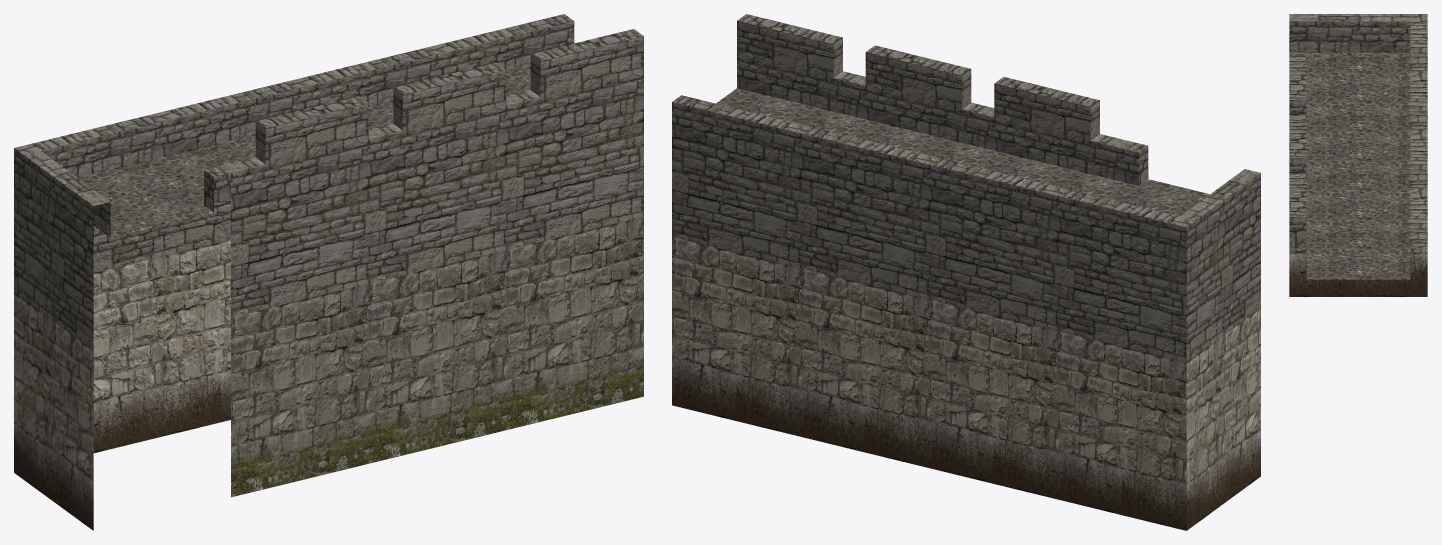
The model's file is poorlords_wall_corner.FBX.
3 views of the same model, side by side, from view 1: azimuth 30°, elevation 25°; view 2: azimuth 150°, elevation 25°; view 3: azimuth 270°, elevation 25° (orthographic). The views are drawn at different scales.
Visible parts, largest first — view 1: Poorlords_wall_corner_; view 2: Poorlords_wall_corner_; view 3: Poorlords_wall_corner_.
Part boxes in pixels (left/top/right/bottom): Poorlords_wall_corner_: left=14, top=14, right=643, bottom=530; Poorlords_wall_corner_: left=672, top=14, right=1260, bottom=530; Poorlords_wall_corner_: left=1289, top=14, right=1427, bottom=296.
Bounding box in the file's own units: 1024 × 641 × 256.
